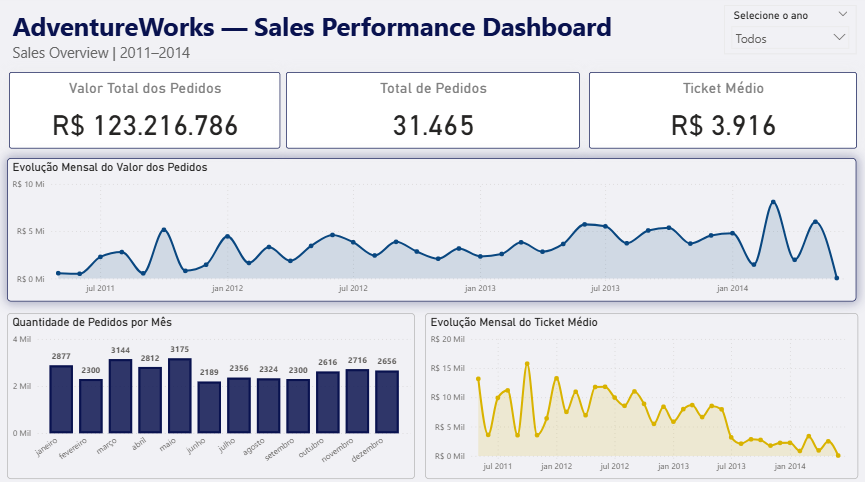

Layout of this report page (visuals, bound fields, positions):
{"tool":"powerbi","page":{"name":"Página 1","canvas":[1280,720],"ordinal":0},"visuals":[{"type":"card","title":"Valor Total dos Pedidos","fields":{"Values":["Sum(Sales SalesOrderHeader.TotalDue)"]},"box":[18.3,113.3,396.7,111.7],"z":0},{"type":"card","title":"Total de Pedidos","fields":{"Values":["Count(Sales SalesOrderHeader.SalesOrderID)"]},"box":[425,113.3,430,111.7],"z":1000},{"type":"card","title":"Ticket Médio","fields":{"Values":["Sales SalesOrderHeader.Average Order Value"]},"box":[868.3,113.3,391.7,111.7],"z":2000},{"type":"areaChart","title":"Evolução Mensal do Valor dos Pedidos","fields":{"Category":["Calendar.Date.Variation.Hierarquia de datas.Ano","Calendar.Date.Variation.Hierarquia de datas.Mês"],"Y":["Sum(SalesOrderHeader.TotalDue)"]},"box":[16.7,238.3,1243.3,210],"z":3000},{"type":"columnChart","title":"Quantidade de Pedidos por Mês","fields":{"Y":["Count(SalesOrderHeader.SalesOrderID)"],"Category":["Calendar.Date.Variation.Hierarquia de datas.Mês"]},"box":[16.1,465.4,597.1,242.9],"z":4000},{"type":"slicer","fields":{"Values":["Calendar.Ano"]},"box":[1064.8,14.8,194.4,72.2],"z":5000},{"type":"textbox","box":[18.3,15,998.3,98.3],"z":6000},{"type":"areaChart","title":"Evolução Mensal do Ticket Médio","fields":{"Category":["Calendar.Date.Variation.Hierarquia de datas.Ano","Calendar.Date.Variation.Hierarquia de datas.Mês"],"Y":["SalesOrderHeader.Average Order Value"]},"box":[627.8,465.4,633.7,242.9],"z":7000}]}

Visuals, with their boxes in screenshot pixels (x1, y1, x2, y2), scaled from the page's 1280x720 canvas onto the 865x482 screenshot:
"Valor Total dos Pedidos" card: x1=12, y1=76, x2=280, y2=151
"Total de Pedidos" card: x1=287, y1=76, x2=578, y2=151
"Ticket Médio" card: x1=587, y1=76, x2=851, y2=151
"Evolução Mensal do Valor dos Pedidos" areaChart: x1=11, y1=160, x2=851, y2=300
"Quantidade de Pedidos por Mês" columnChart: x1=11, y1=312, x2=414, y2=474
slicer - Calendar.Ano: x1=720, y1=10, x2=851, y2=58
textbox: x1=12, y1=10, x2=687, y2=76
"Evolução Mensal do Ticket Médio" areaChart: x1=424, y1=312, x2=852, y2=474
